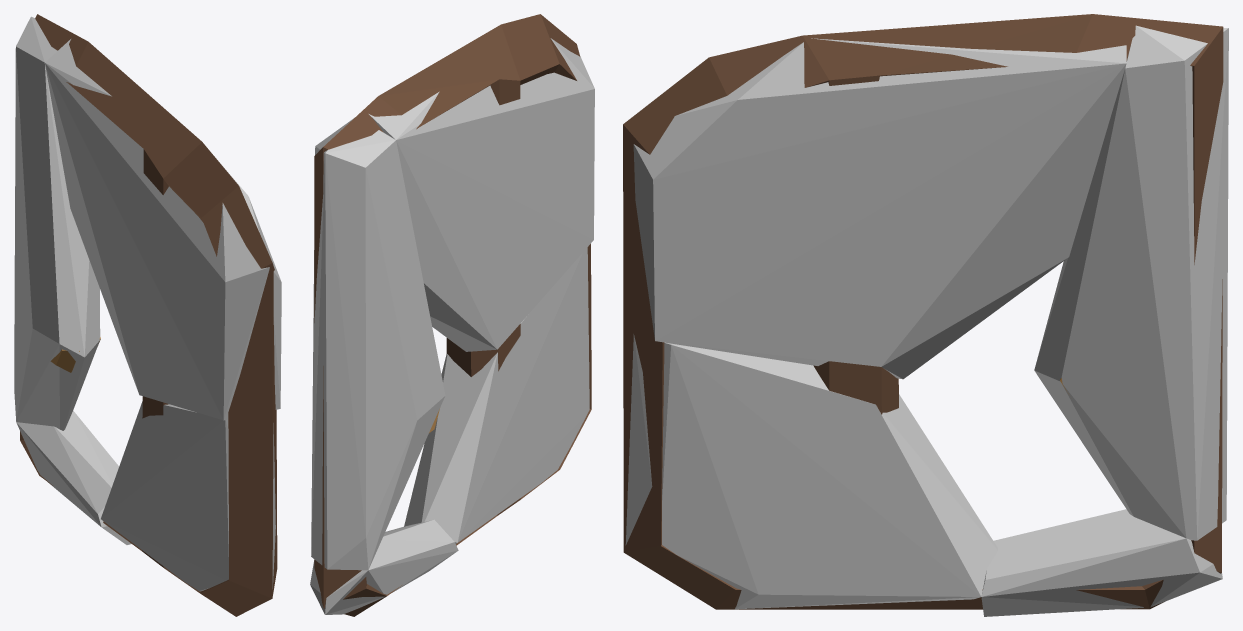
File: SM_Prop_Cabinet_01_Door_r_01.fbx
3 renders of one model, left to right at view 1: azimuth 30°, elevation 25°; view 2: azimuth 150°, elevation 25°; view 3: azimuth 270°, elevation 25°, orthographic. The views are drawn at different scales.
Parts seen in each view (by area): view 1: SM_Prop_Cabinet_01_Door_r_01_ConvexHulls, SM_Prop_Cabinet_01_Door_r_01; view 2: SM_Prop_Cabinet_01_Door_r_01_ConvexHulls, SM_Prop_Cabinet_01_Door_r_01; view 3: SM_Prop_Cabinet_01_Door_r_01_ConvexHulls, SM_Prop_Cabinet_01_Door_r_01.
Part boxes in pixels (<box>): SM_Prop_Cabinet_01_Door_r_01_ConvexHulls: <box>14,16,281,591</box>; SM_Prop_Cabinet_01_Door_r_01: <box>20,14,277,616</box>; SM_Prop_Cabinet_01_Door_r_01_ConvexHulls: <box>310,38,594,614</box>; SM_Prop_Cabinet_01_Door_r_01: <box>314,14,591,616</box>; SM_Prop_Cabinet_01_Door_r_01_ConvexHulls: <box>625,25,1228,616</box>; SM_Prop_Cabinet_01_Door_r_01: <box>623,14,1223,609</box>.
Bounding box in the file's own units: 5.96 × 35.44 × 38.79.
2 materials, 1 textured.
